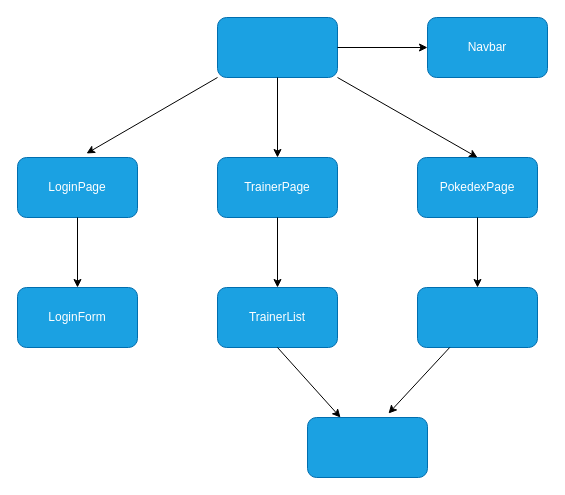
This 565x495 diagram has some shape labels left out. The centre of each missing label's shape, as x and y in pixels:
"App" belongs at (x=277, y=47).
"PokedexList" belongs at (x=477, y=317).
"PokemonCards" belongs at (x=367, y=447).
